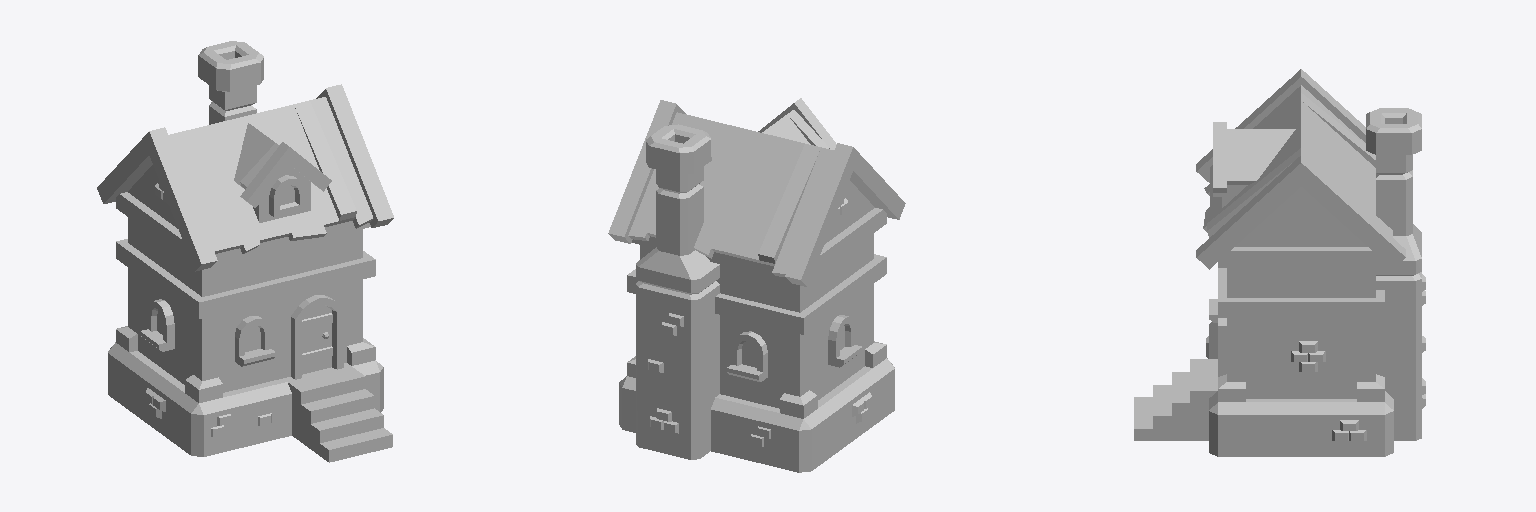
File: building_home_B_red.obj
3 renders of one model, left to right at view 1: azimuth 30°, elevation 25°; view 2: azimuth 150°, elevation 25°; view 3: azimuth 270°, elevation 25°, orthographic.
Parts seen in each view (by area): view 1: building_home_B_red; view 2: building_home_B_red; view 3: building_home_B_red.
Boxes of the visible parts, <box> form: building_home_B_red: <box>97,41,393,462</box>; building_home_B_red: <box>608,98,905,472</box>; building_home_B_red: <box>1134,69,1425,456</box>.
Size of the model in its own units: 0.8749 by 1.28 by 1.1.